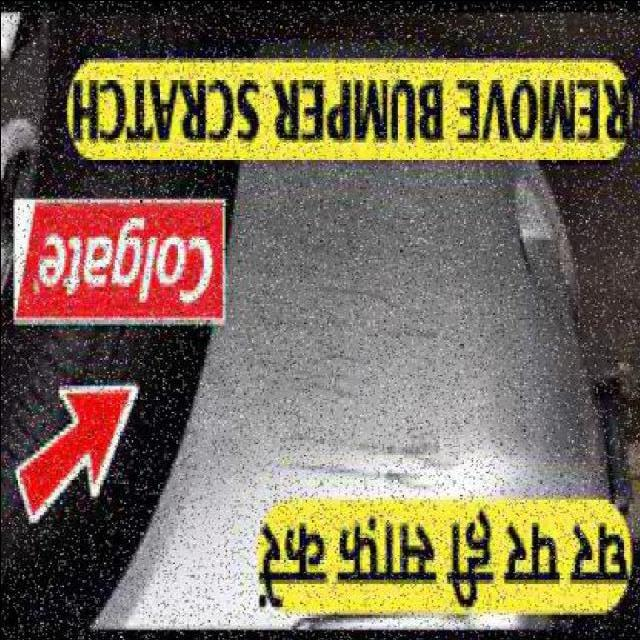front-bumper-dent: (103, 106, 639, 622)
